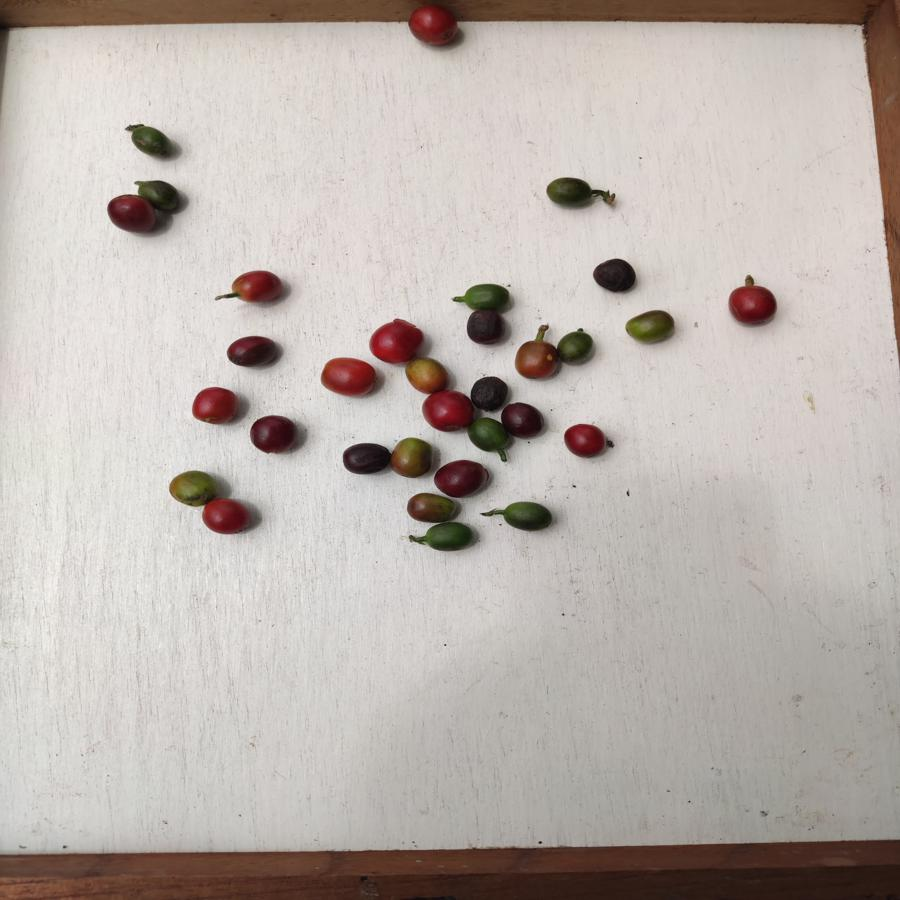Inmaduro: (422, 520, 484, 558), (502, 498, 554, 538), (543, 175, 597, 210), (459, 277, 515, 309), (555, 326, 598, 365), (130, 127, 176, 161), (139, 177, 183, 211), (471, 419, 504, 455)
Maduro: (365, 317, 426, 361), (723, 283, 782, 328), (403, 7, 464, 50), (319, 358, 381, 398), (227, 270, 284, 310), (559, 425, 613, 463), (187, 388, 238, 426), (201, 501, 253, 537), (421, 393, 473, 429)
Pinton: (389, 433, 431, 479), (627, 308, 677, 345), (166, 469, 217, 503), (515, 340, 557, 381), (406, 489, 457, 522), (406, 357, 450, 394)
Sobremaduro: (435, 459, 494, 497), (224, 331, 279, 371), (247, 415, 303, 453), (500, 402, 547, 441), (464, 373, 512, 411), (341, 442, 390, 479), (465, 308, 508, 348), (592, 257, 638, 294), (108, 198, 156, 233)
